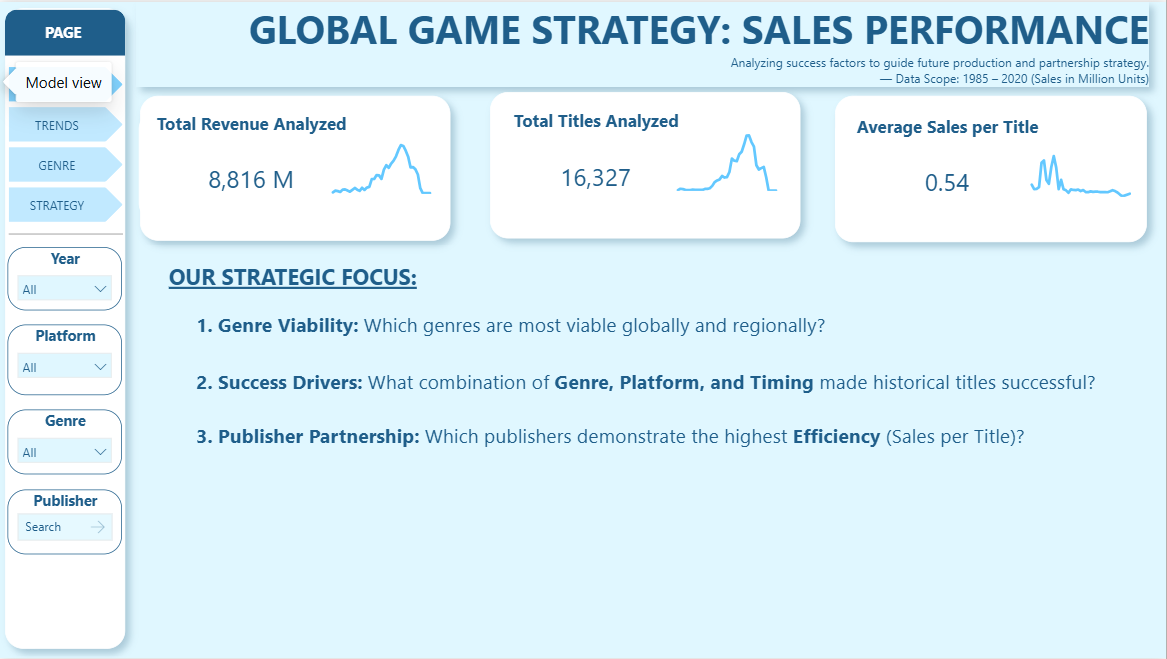

The page's visual inventory and layout, read from the dashboard file:
{"tool":"powerbi","page":{"name":"HOME","canvas":[1280,720],"ordinal":0},"visuals":[{"type":"textbox","title":"GLOBAL GAME STRATEGY: SALES PERFORMANCE","box":[149.2,0,1111.9,93.2],"z":0},{"type":"shape","box":[5.1,6.8,132.2,703.4],"z":1000},{"type":"shape","box":[153.6,103.4,340.7,159.3],"z":2000},{"type":"card","title":"Total Revenue Analyzed","fields":{"Values":["Massue.Total Global"]},"box":[152.7,119.6,246.3,121.4],"z":3000},{"type":"lineChart","fields":{"Y":["Massue.Total Global"],"Category":["Data_Cleaned.Year"]},"box":[340,122.8,156.5,102.2],"z":4000},{"type":"shape","box":[537.9,99.4,340.7,161],"z":5000},{"type":"card","title":"Total Titles Analyzed","fields":{"Values":["Massue.Total Unique Games"]},"box":[539.6,116.4,228.8,122],"z":6000},{"type":"lineChart","fields":{"Y":["Massue.Total Unique Games"],"Category":["Data_Cleaned.Year"]},"box":[719.3,119.8,157.6,103.4],"z":7000},{"type":"shape","box":[916.9,103.4,342.4,161],"z":8000},{"type":"card","title":"Average Sales per Title","fields":{"Values":["Massue.AVG Per Games"]},"box":[916.9,123.7,245.8,120.3],"z":9000},{"type":"lineChart","fields":{"Category":["Data_Cleaned.Year"],"Y":["Massue.AVG Per Games"]},"box":[1106.8,127.1,157.6,101.7],"z":10000},{"type":"textbox","box":[215.6,384.1,1045.9,76.7],"z":11000},{"type":"textbox","box":[215.6,339.5,1004.8,60.7],"z":12000},{"type":"textbox","box":[215.6,460.8,1004.8,60.7],"z":13000},{"type":"textbox","box":[185.6,285.6,1004.8,50],"z":14000},{"type":"textbox","box":[37.4,18.7,100.4,32.3],"z":15000},{"type":"shape","box":[5.1,8.5,132.2,50.8],"z":16000},{"type":"slicer","title":"Genre","fields":{"Values":["Data_Cleaned.Genre"]},"box":[8.5,447.5,125.4,71.2],"z":17000},{"type":"slicer","title":"Platform","fields":{"Values":["Data_Cleaned.Publisher"]},"box":[8.5,354.2,125.4,78],"z":18000},{"type":"slicer","title":"Year","fields":{"Values":["Data_Cleaned.Year"]},"box":[8.5,269.5,125.4,69.5],"z":19000},{"type":"textSlicer","title":"Publisher","fields":{"Values":["Data_Cleaned.Publisher"]},"box":[8.5,535.6,125.4,71.2],"z":20000},{"type":"pageNavigator","box":[9,55.9,125.4,186.4],"z":21000},{"type":"shape","box":[9,242.4,125.4,23.7],"z":22000},{"type":"textbox","box":[18.6,22,100,32.2],"z":23000}]}

Visuals, with their boxes on the page's 1280x720 design canvas (x1, y1, x2, y2). These are canvas units, not pixel positions in the 1167x659 screenshot, which may show the page scaled, cropped or inside an application window:
"GLOBAL GAME STRATEGY: SALES PERFORMANCE" textbox: left=149, top=0, right=1261, bottom=93
shape: left=5, top=7, right=137, bottom=710
shape: left=154, top=103, right=494, bottom=263
"Total Revenue Analyzed" card: left=153, top=120, right=399, bottom=241
lineChart - Massue.Total Global x Data_Cleaned.Year: left=340, top=123, right=496, bottom=225
shape: left=538, top=99, right=879, bottom=260
"Total Titles Analyzed" card: left=540, top=116, right=768, bottom=238
lineChart - Massue.Total Unique Games x Data_Cleaned.Year: left=719, top=120, right=877, bottom=223
shape: left=917, top=103, right=1259, bottom=264
"Average Sales per Title" card: left=917, top=124, right=1163, bottom=244
lineChart - Data_Cleaned.Year x Massue.AVG Per Games: left=1107, top=127, right=1264, bottom=229
textbox: left=216, top=384, right=1262, bottom=461
textbox: left=216, top=340, right=1220, bottom=400
textbox: left=216, top=461, right=1220, bottom=522
textbox: left=186, top=286, right=1190, bottom=336
textbox: left=37, top=19, right=138, bottom=51
shape: left=5, top=8, right=137, bottom=59
"Genre" slicer: left=8, top=448, right=134, bottom=519
"Platform" slicer: left=8, top=354, right=134, bottom=432
"Year" slicer: left=8, top=270, right=134, bottom=339
"Publisher" textSlicer: left=8, top=536, right=134, bottom=607
pageNavigator: left=9, top=56, right=134, bottom=242
shape: left=9, top=242, right=134, bottom=266
textbox: left=19, top=22, right=119, bottom=54
